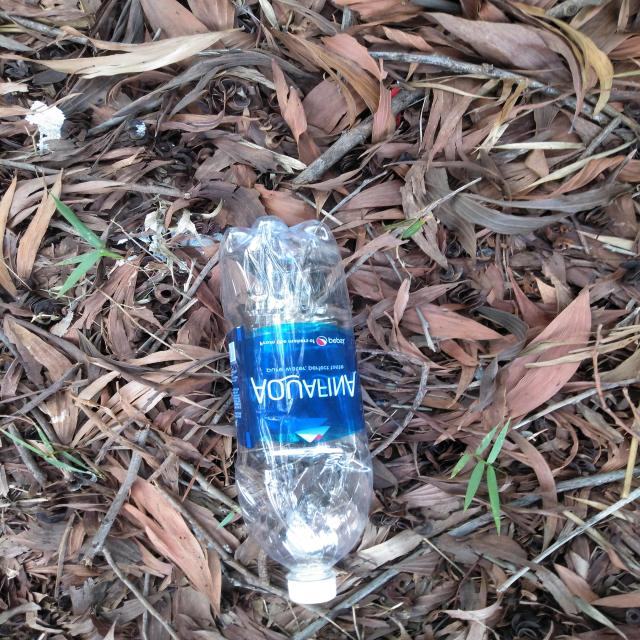plastic: (219, 217, 388, 605)
